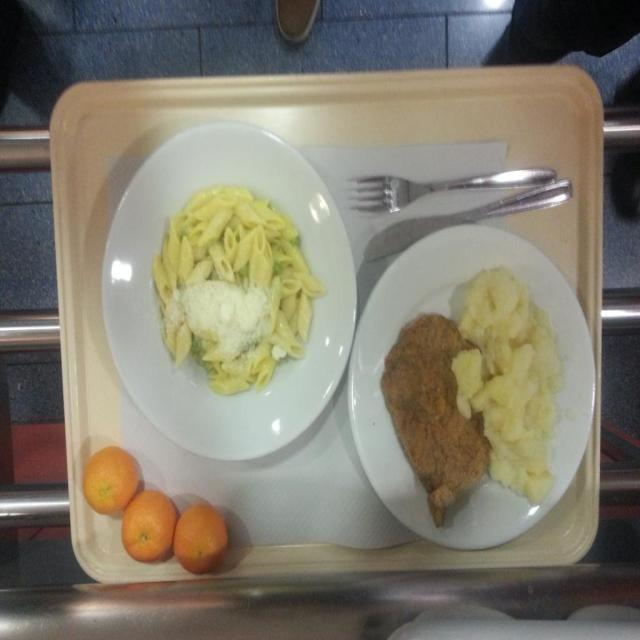plate: (102, 122, 357, 461), (347, 224, 597, 552), (81, 444, 138, 516), (173, 506, 230, 576), (120, 492, 176, 562)
